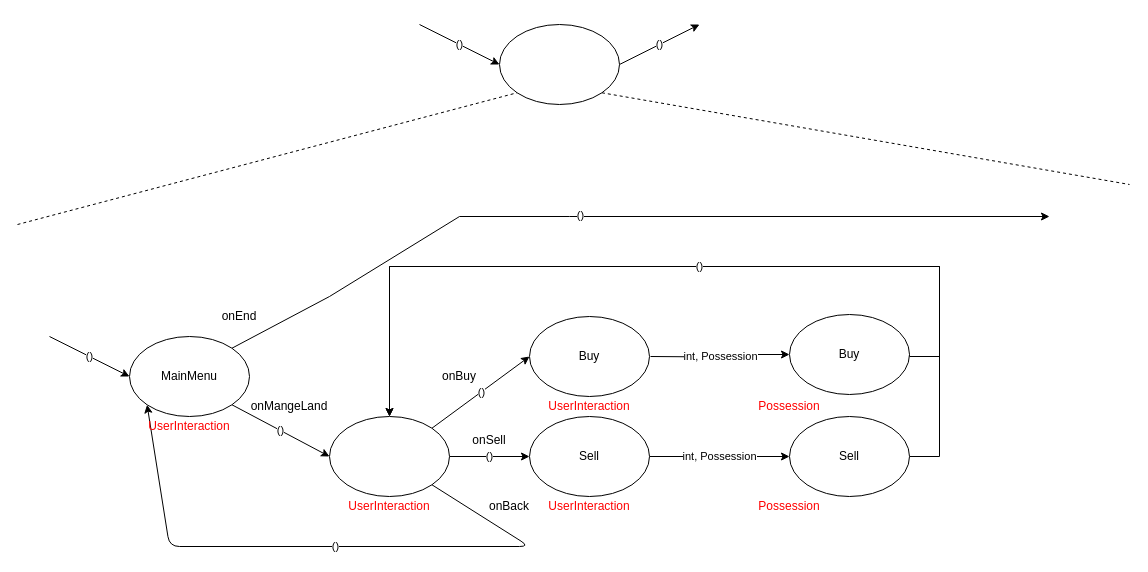
The diagram is 1148 pixels wide and 572 high, and some of its shapes have lost their labels. The centre of each missing label's shape, as x and y in pixels:
MangeLandMenu: point 389,456
Run: point 559,64
